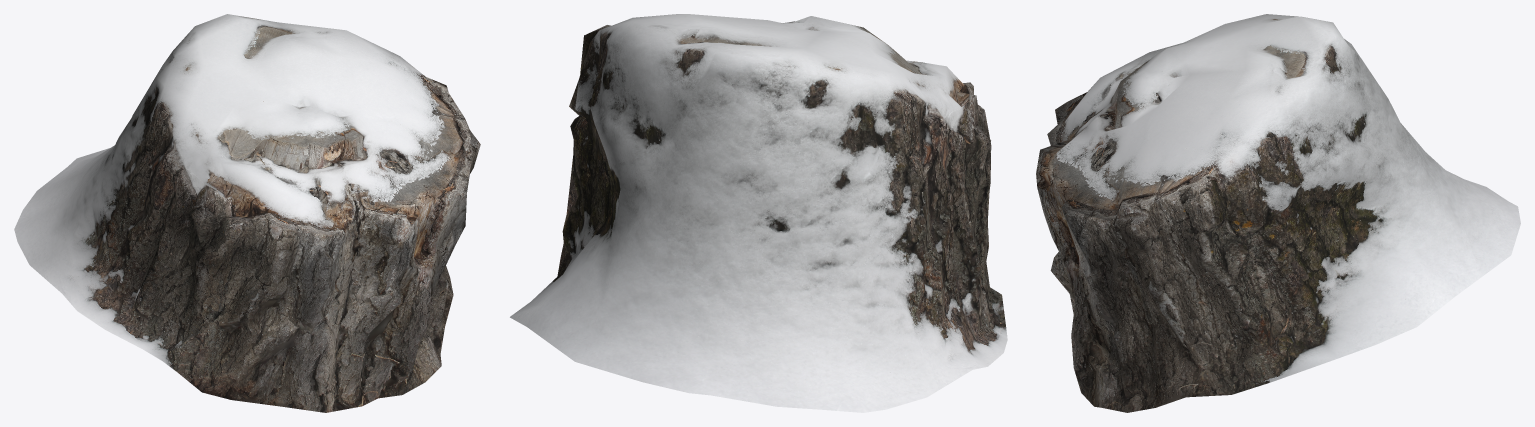
The model's file is Forest_stump_12.FBX.
3 renders of one model, left to right at view 1: azimuth 30°, elevation 25°; view 2: azimuth 150°, elevation 25°; view 3: azimuth 270°, elevation 25°, orthographic. The views are drawn at different scales.
Parts seen in each view (by area): view 1: Forest_stump_12; view 2: Forest_stump_12; view 3: Forest_stump_12.
Part boxes in pixels (box(x1,y1,x2,y2)): Forest_stump_12: box(14, 14, 480, 412); Forest_stump_12: box(510, 14, 1007, 412); Forest_stump_12: box(1036, 14, 1520, 412).
Bounding box in the file's own units: 1.56 × 1.32 × 1.76.
Materials: 1 (1 with a texture image).
